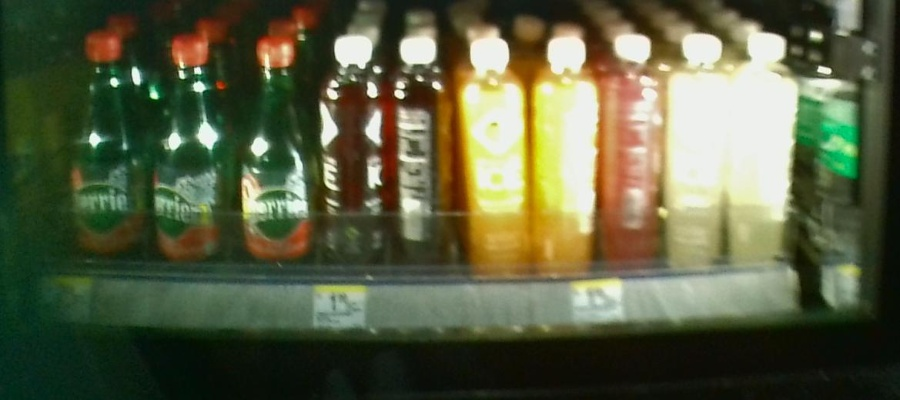bottle: (66, 17, 147, 267), (236, 27, 314, 271), (156, 27, 232, 265), (534, 27, 601, 275), (389, 18, 453, 273), (461, 32, 526, 276), (319, 33, 383, 276), (670, 29, 734, 271), (738, 27, 800, 268), (606, 34, 664, 276)
